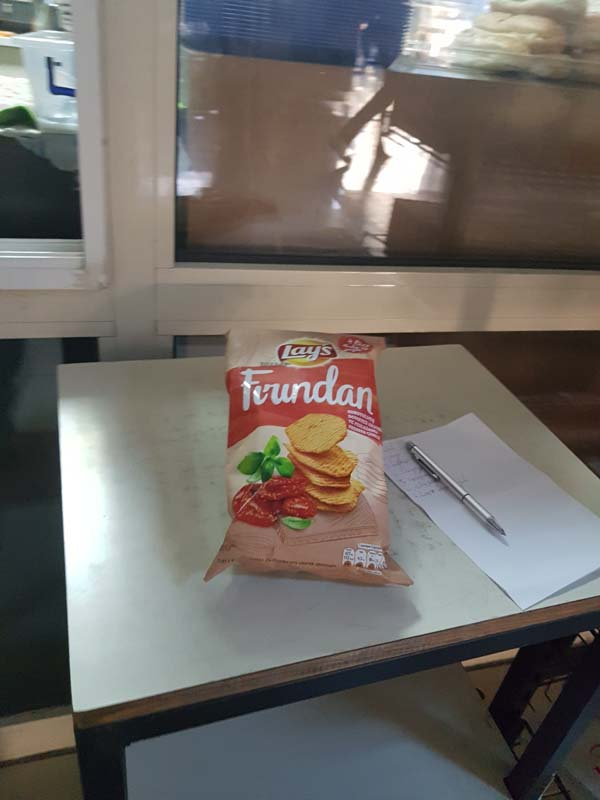laysfirindan: (217, 322, 417, 593)
